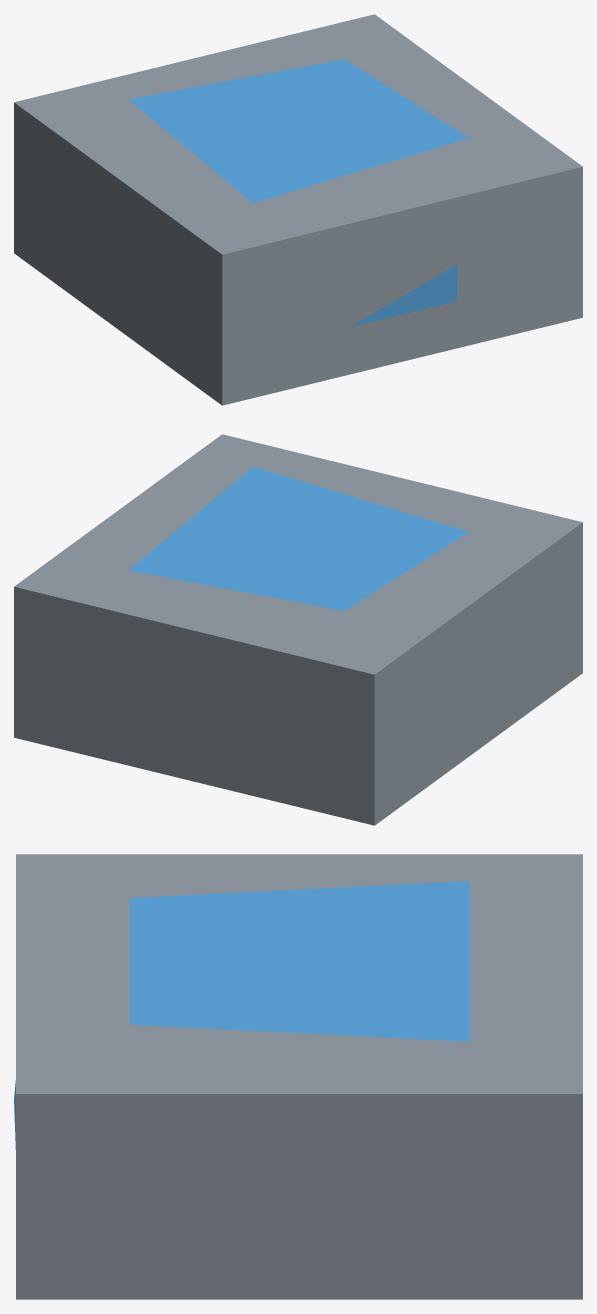
The model's file is AL_NavalYard_LOD1.glb.
The picture shows the model from 3 angles, top to bottom: view 1: azimuth 30°, elevation 25°; view 2: azimuth 150°, elevation 25°; view 3: azimuth 270°, elevation 25°; orthographic projection. The views are drawn at different scales.
Parts seen in each view (by area): view 1: EntranceGate; view 2: EntranceGate; view 3: EntranceGate.
Boxes of the visible parts, box(x1,y1,x2,y2) form: EntranceGate: box(14, 14, 582, 405); EntranceGate: box(14, 434, 582, 825); EntranceGate: box(14, 854, 582, 1299).
Bounding box in the file's own units: 1000 × 442 × 1003.
